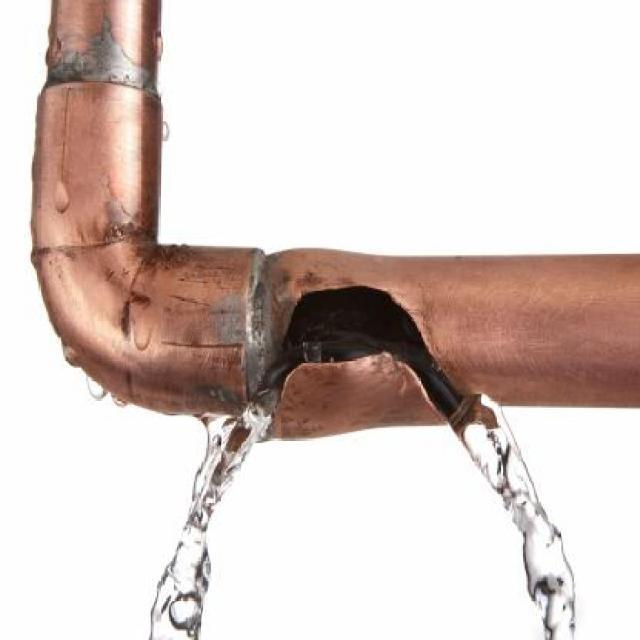water drop: (85, 373, 108, 400)
